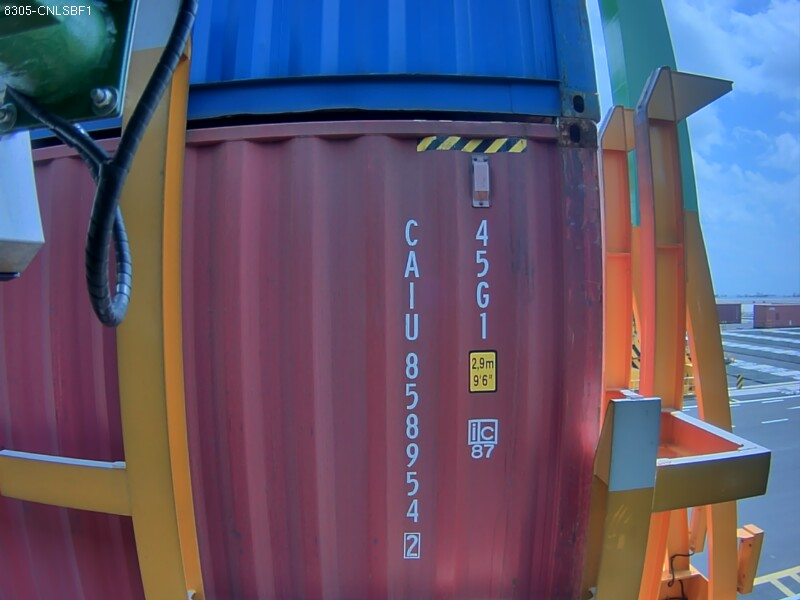container_no_door: (215, 122, 601, 600)
